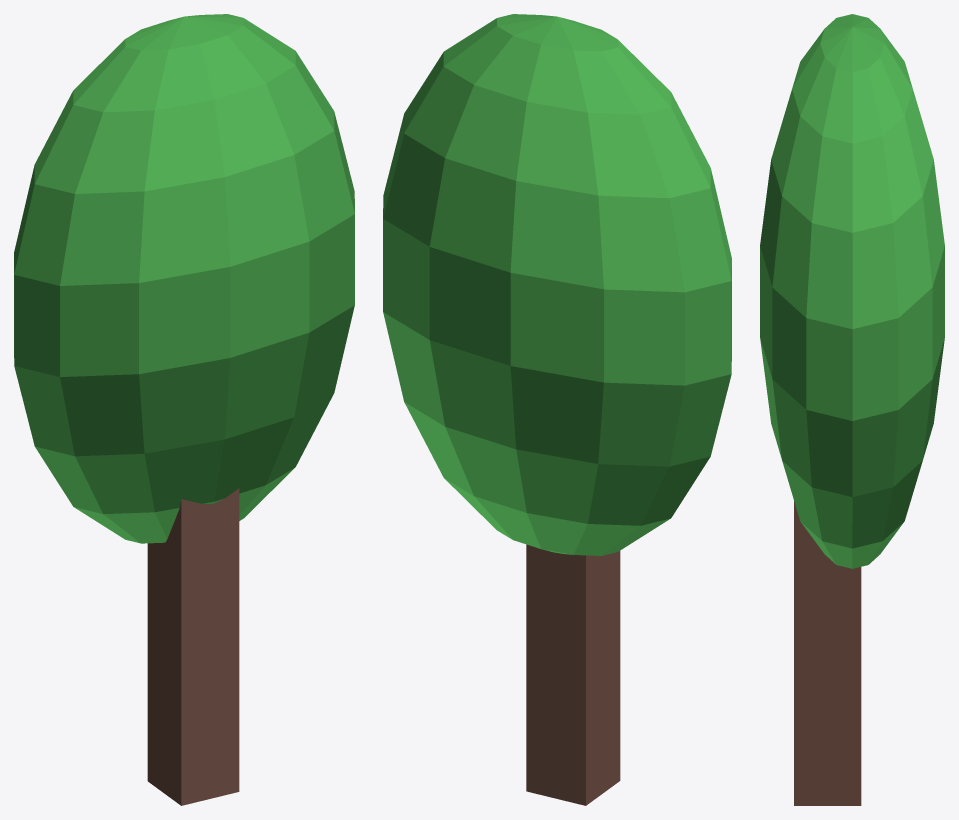
3 renders of one model, left to right at view 1: azimuth 30°, elevation 25°; view 2: azimuth 150°, elevation 25°; view 3: azimuth 270°, elevation 25°, orthographic. The views are drawn at different scales.
Visible parts, largest first — view 1: mesh_958257512, mesh_1763349097; view 2: mesh_958257512, mesh_1763349097; view 3: mesh_958257512, mesh_1763349097.
Boxes of the visible parts, left/top/right/bottom form: mesh_958257512: left=14, top=14, right=354, bottom=543; mesh_1763349097: left=147, top=488, right=239, bottom=805; mesh_958257512: left=383, top=14, right=731, bottom=555; mesh_1763349097: left=526, top=544, right=620, bottom=805; mesh_958257512: left=760, top=14, right=944, bottom=568; mesh_1763349097: left=794, top=501, right=861, bottom=805.
Size of the model in its own units: 46.88 by 100 by 21.88.
